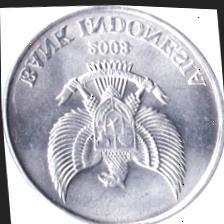coin_500_e2003: (3, 6, 224, 224)
